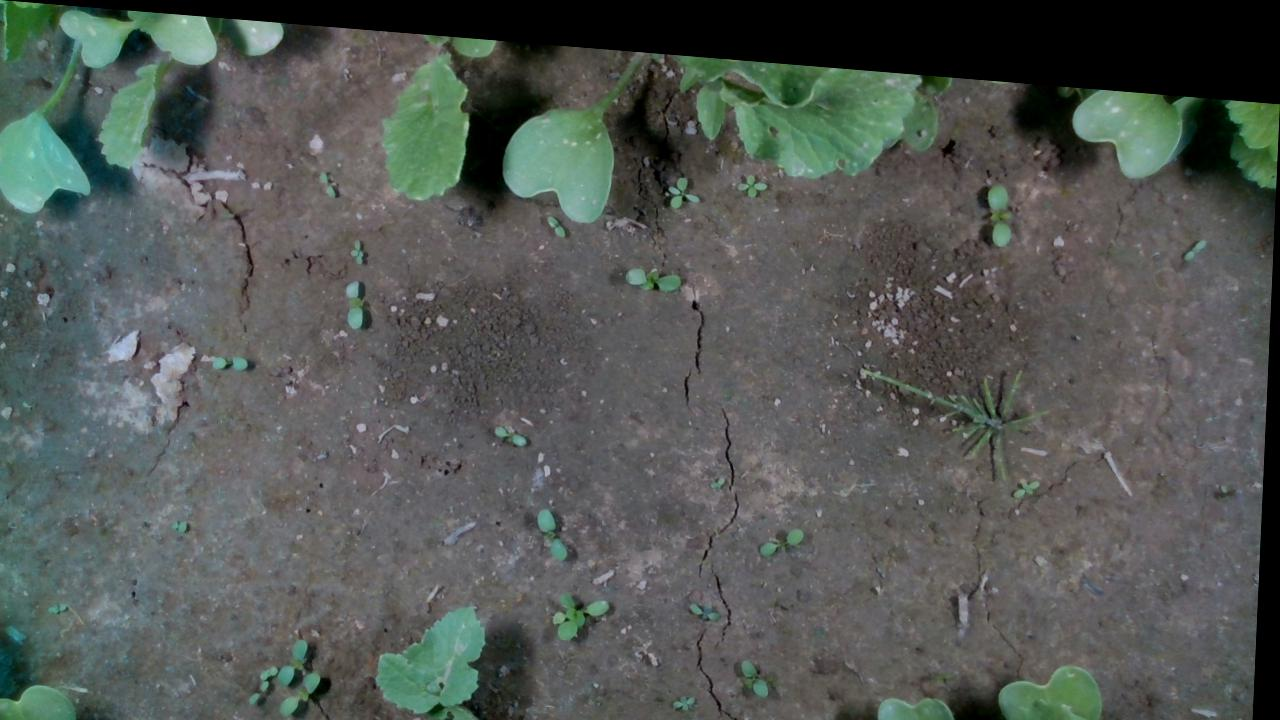weed: (984, 162, 1015, 231), (540, 496, 573, 552), (625, 253, 685, 281), (762, 511, 808, 544), (667, 162, 702, 198), (345, 271, 368, 325), (744, 645, 775, 683), (735, 157, 769, 186), (495, 413, 531, 437), (212, 348, 250, 367), (1183, 215, 1209, 242), (251, 673, 276, 701), (1016, 456, 1043, 481), (318, 163, 338, 193), (692, 589, 723, 608), (546, 204, 567, 229), (349, 231, 367, 258), (676, 681, 702, 698), (693, 714, 713, 719)
